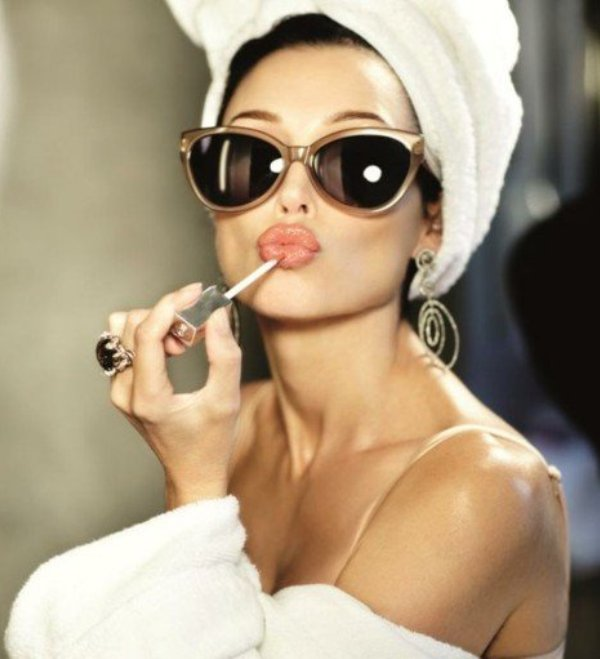glasses: (159, 120, 437, 222)
